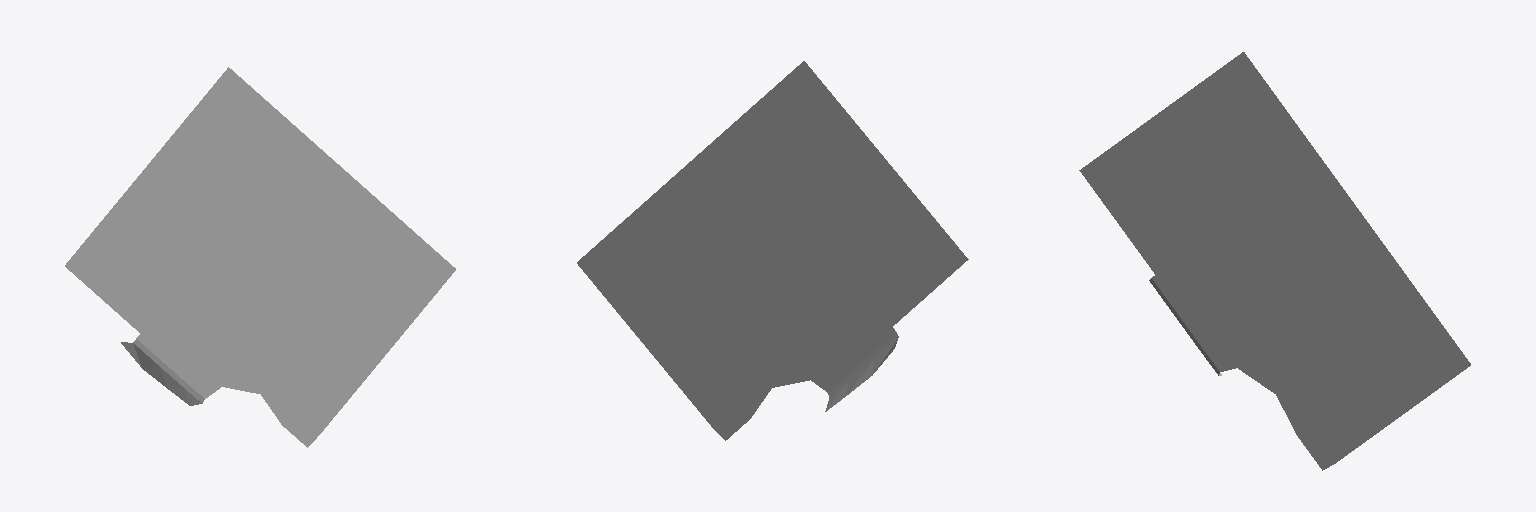
Rendered from Ashenvale - Satyr Lake Feeder.wlw.obj.
3 views of the same model, side by side, from view 1: azimuth 30°, elevation 25°; view 2: azimuth 150°, elevation 25°; view 3: azimuth 330°, elevation 25° (orthographic).
Size of the model in its own units: 87.63 by 85.4 by 3.44.